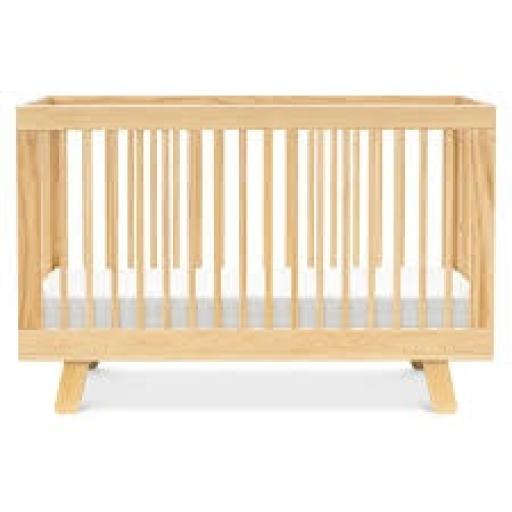crib: (19, 98, 496, 411)
